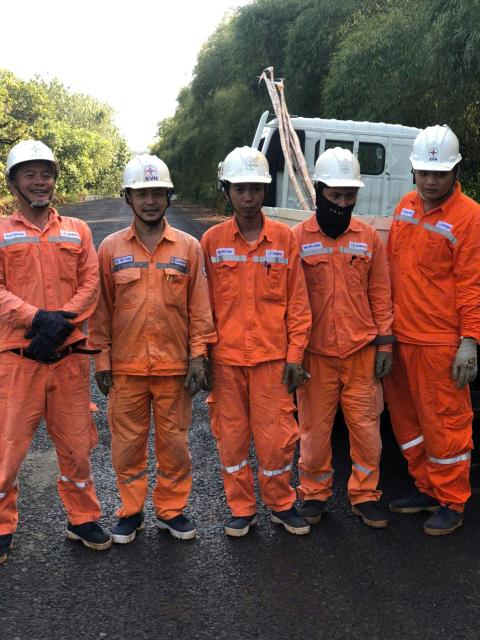gloves: (29, 301, 85, 349), (18, 315, 82, 355), (448, 333, 480, 397), (363, 344, 407, 388), (174, 347, 203, 398), (91, 363, 126, 404), (275, 361, 308, 396), (195, 354, 222, 395)
harness: (5, 332, 105, 375)
helmet: (207, 132, 281, 192), (396, 121, 470, 180), (0, 127, 67, 188), (103, 156, 181, 207), (307, 142, 371, 193)
shoes: (154, 494, 198, 551), (422, 500, 475, 546), (285, 482, 332, 529), (66, 509, 111, 557), (350, 488, 390, 539), (215, 503, 266, 542), (105, 502, 147, 548), (379, 489, 449, 514), (272, 504, 313, 545), (0, 514, 14, 580)
